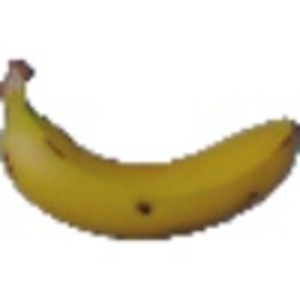banana: (2, 52, 299, 244)
